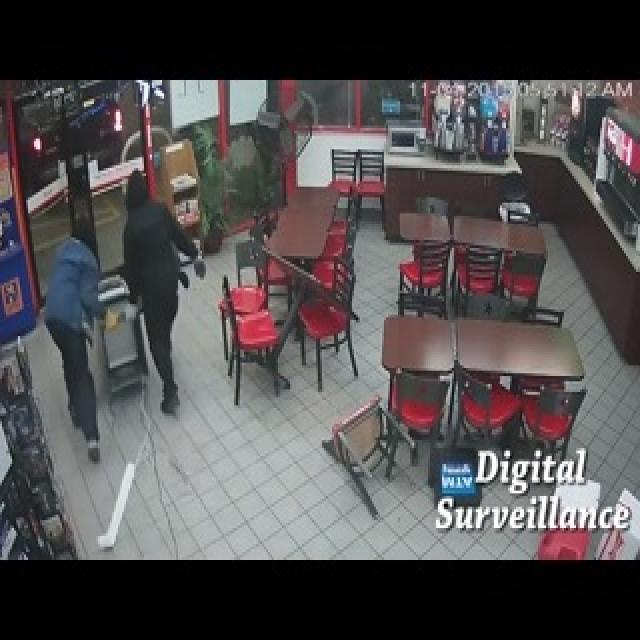thief: (70, 159, 184, 302)
